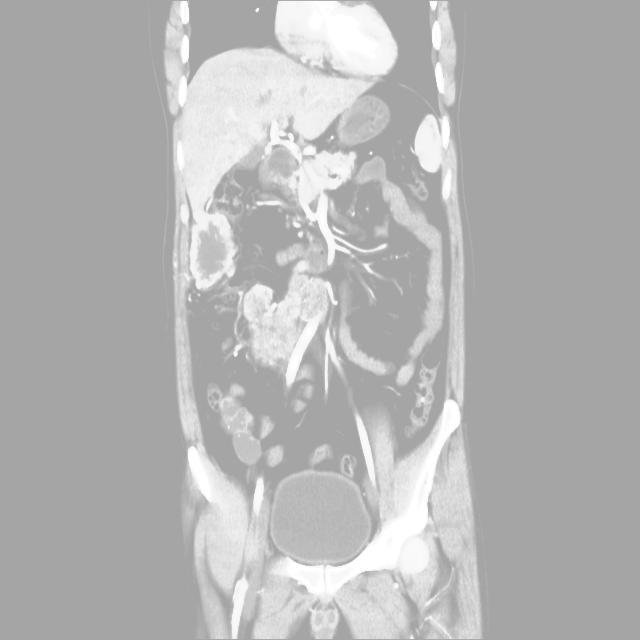TUMOR: (107, 165, 514, 489)
